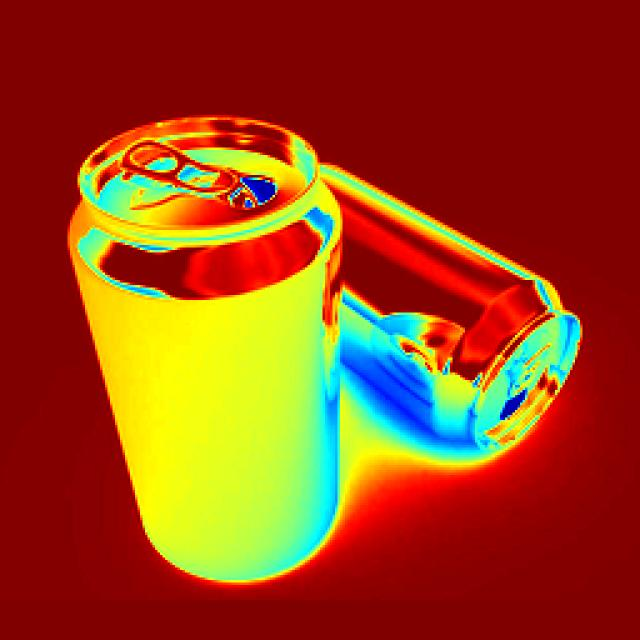Aluminium Food Cans: (76, 91, 356, 592), (336, 170, 543, 458)
